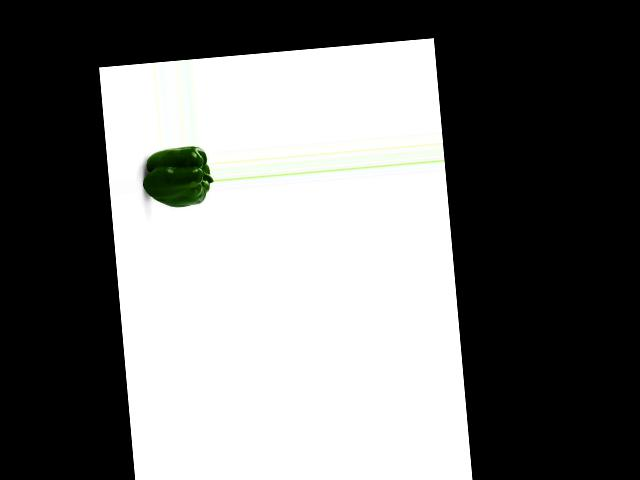bell_pepper: (142, 143, 214, 211)
